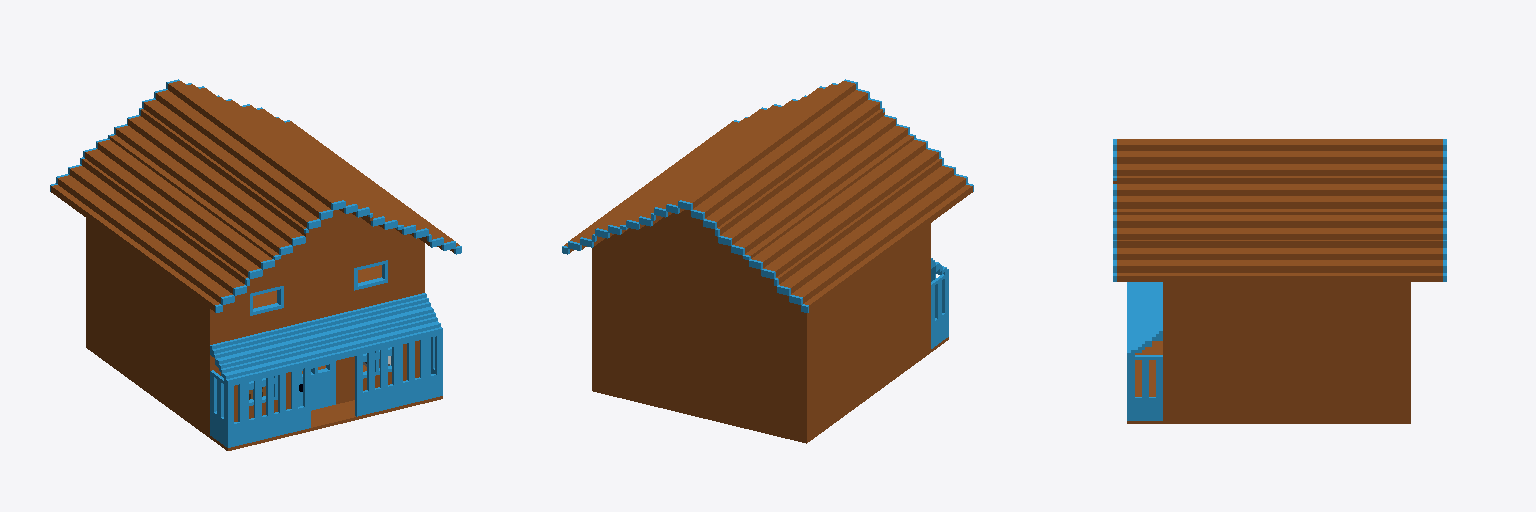
3 renders of one model, left to right at view 1: azimuth 30°, elevation 25°; view 2: azimuth 150°, elevation 25°; view 3: azimuth 270°, elevation 25°, orthographic.
Parts seen in each view (by area): view 1: object 1; view 2: object 1; view 3: object 1.
Part boxes in pixels (x1,y1,x2,y2): object 1: (50, 79, 461, 450); object 1: (562, 79, 973, 443); object 1: (1113, 139, 1446, 423).
Size of the model in its own units: 8 by 7.1 by 9.4.
Materials: 1 (1 with a texture image).